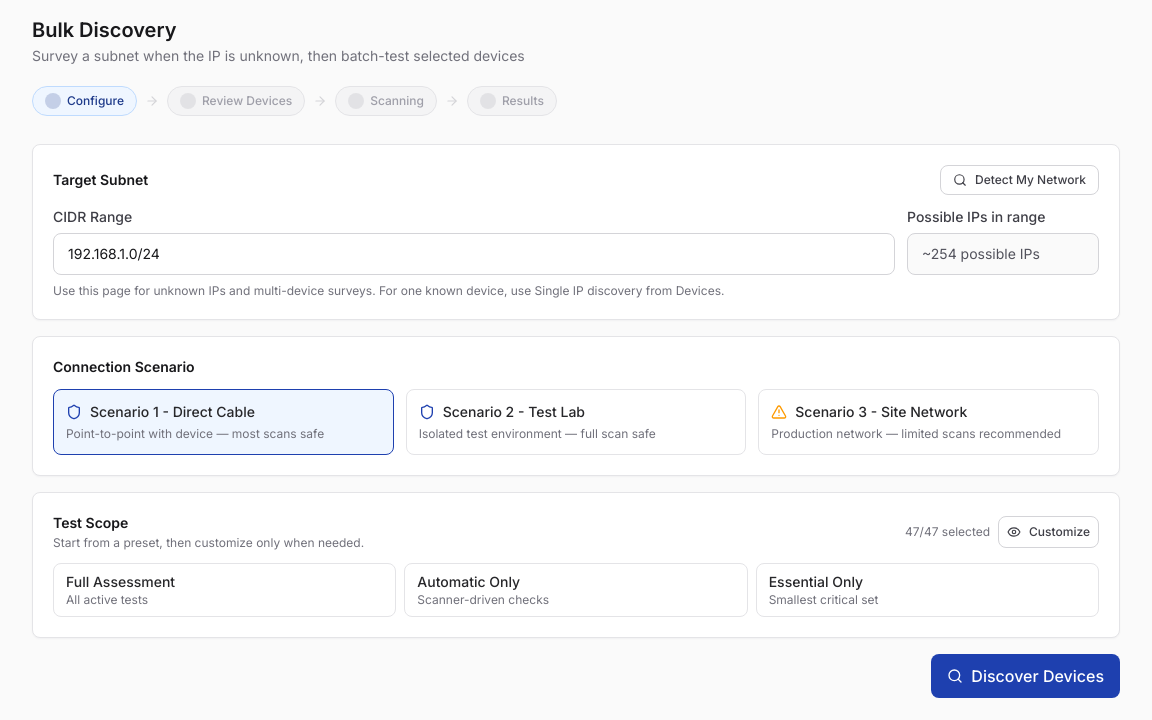
Scenario: NetworkScanPage › allows a single-host /32 discovery range
Type "192.168.4.64/32" into the field with placeholder "192.168.1.0/24".
click(474, 254); type("192.168.4.64/32")  # box [53,233,895,275]
(page scrolled)
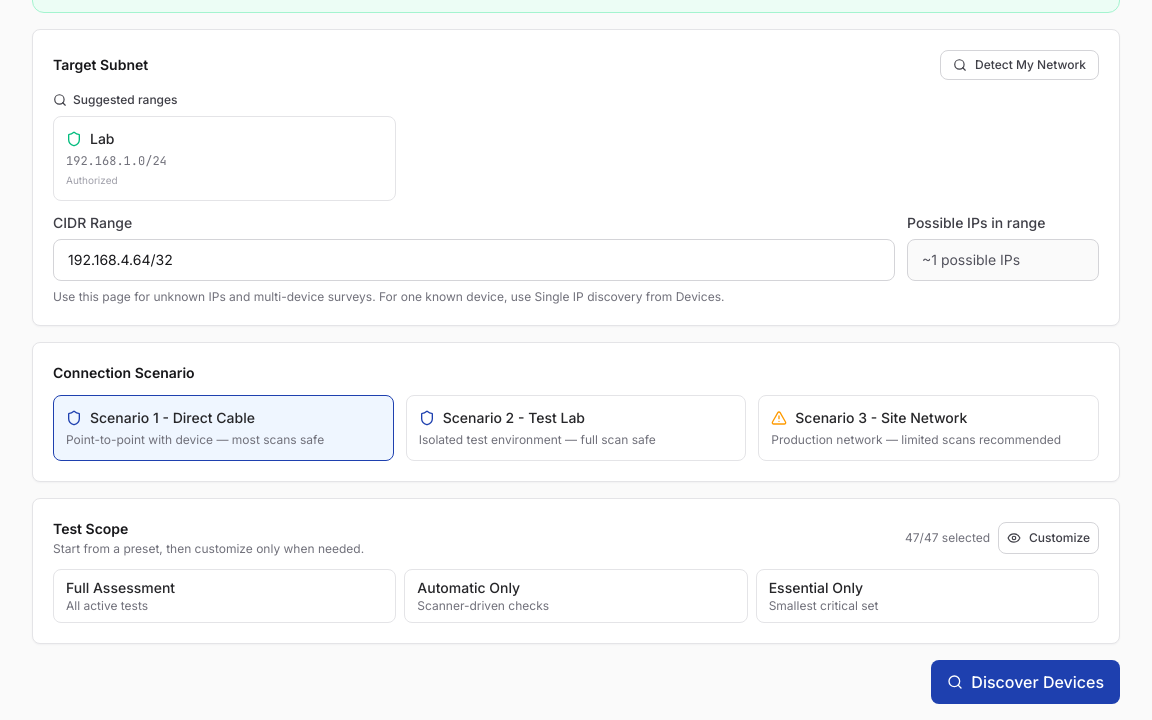
Now the text "~1 possible IPs" is shown, box [907,239,1099,281]
Click the button "Discover Devices".
click(1026, 682)  # box [931,660,1120,704]
(page scrolled)
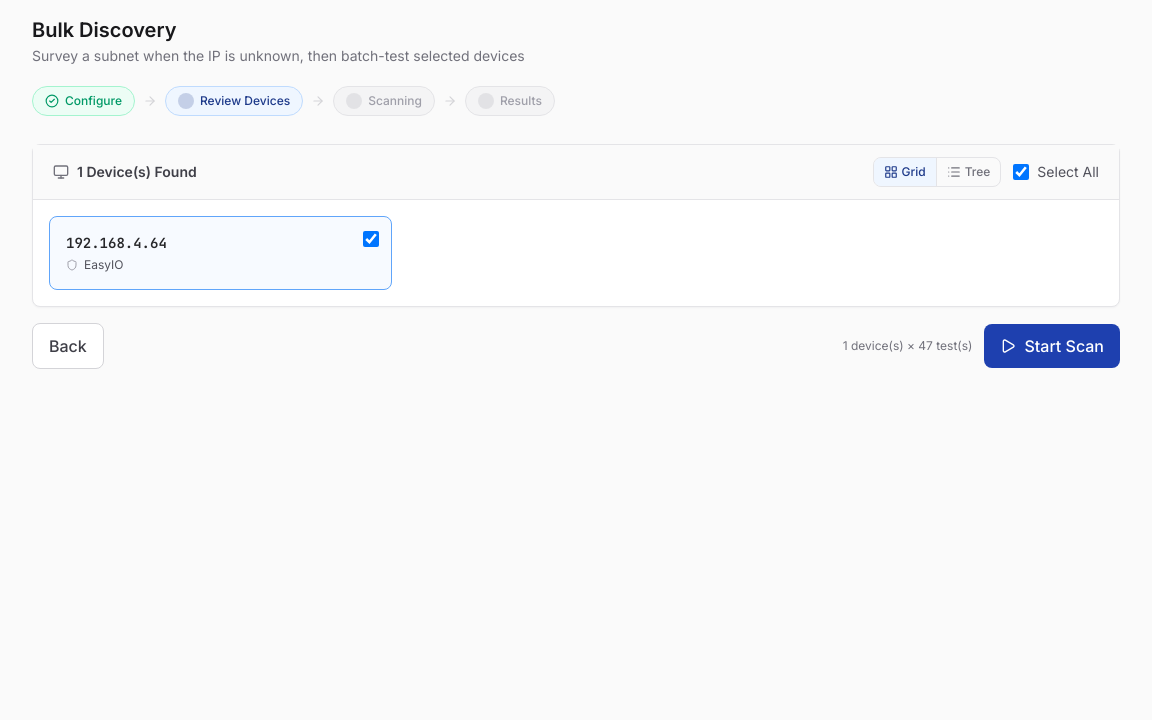
Now the text "192.168.4.64" is shown, box [66,234,167,252]
